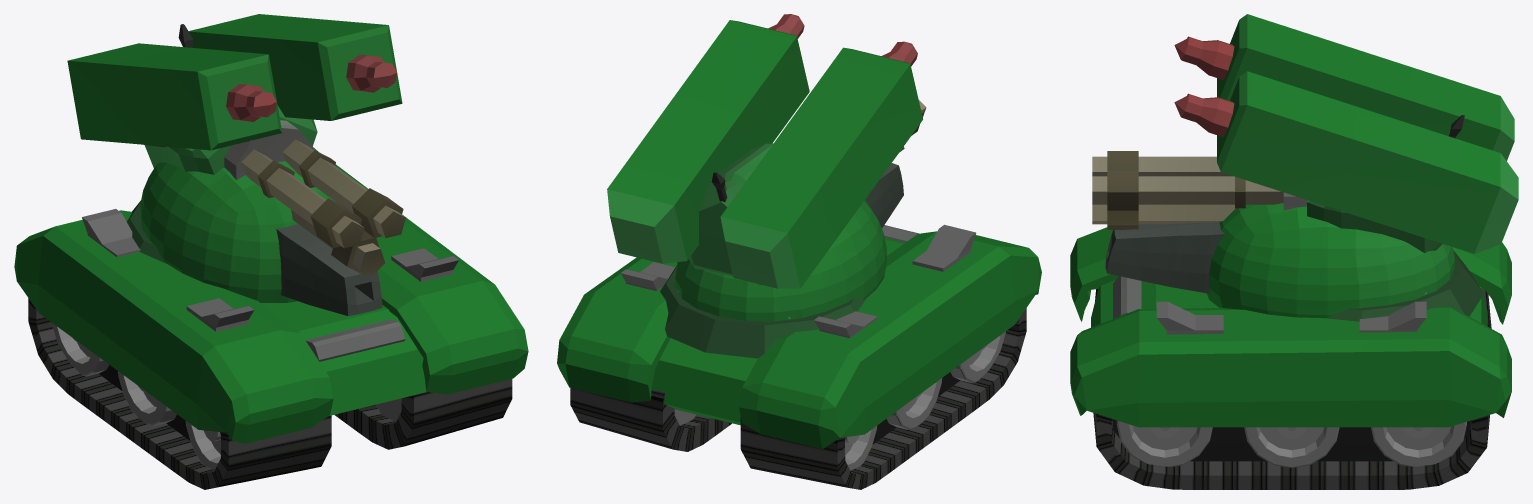
Rendered from minitank-v11-green.fbx.
3 views of the same model, side by side, from view 1: azimuth 30°, elevation 25°; view 2: azimuth 150°, elevation 25°; view 3: azimuth 270°, elevation 25° (orthographic). The views are drawn at different scales.
Visible parts, largest first — view 1: body-decor-top.001, cannon-ballistic, cannon-default, minigun; view 2: body-decor-top.001, cannon-ballistic, cannon-default, minigun; view 3: body-decor-top.001, cannon-ballistic, cannon-default, minigun.
Boxes of the visible parts, x1,y1,x2,y2 form: body-decor-top.001: (14, 164, 528, 489); cannon-ballistic: (67, 14, 402, 263); cannon-default: (140, 24, 382, 315); minigun: (144, 105, 405, 275); body-decor-top.001: (557, 224, 1041, 489); cannon-ballistic: (607, 14, 922, 358); cannon-default: (675, 163, 903, 321); minigun: (689, 100, 926, 284); body-decor-top.001: (1070, 227, 1511, 489); cannon-ballistic: (1174, 14, 1518, 321); cannon-default: (1105, 115, 1464, 318); minigun: (1092, 151, 1442, 252).
Size of the model in its own units: 8883 by 10545 by 11672.
